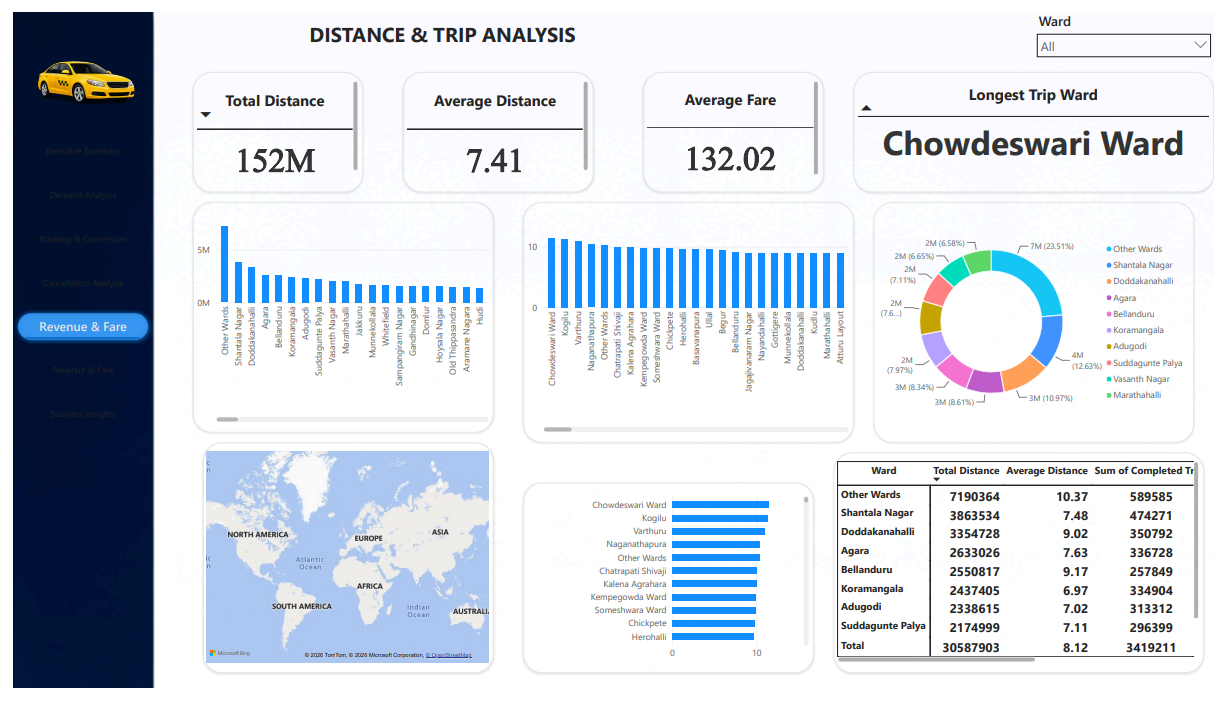

This screenshot's page, from the dashboard's own definition file:
{"tool":"powerbi","page":{"name":"Revenue & Fare ","canvas":[1920,1080],"ordinal":4},"visuals":[{"type":"textbox","box":[224,0,928,96],"z":0},{"type":"tableEx","fields":{"Values":["cleaned_driver_data.Total Distance"]},"box":[288,96,272,192],"z":1000},{"type":"tableEx","fields":{"Values":["cleaned_driver_data.Average Distance"]},"box":[624,96,304,192],"z":2000},{"type":"tableEx","fields":{"Values":["cleaned_driver_data.Longest Trip Ward"]},"box":[1344,96,576,192],"z":3000},{"type":"tableEx","fields":{"Values":["cleaned_driver_data.Average Fare"]},"box":[1008,96,288,192],"z":4000},{"type":"clusteredColumnChart","fields":{"Category":["cleaned_driver_data.Ward"],"Y":["cleaned_driver_data.Total Distance"]},"box":[288,304,480,368],"z":5000},{"type":"columnChart","fields":{"Category":["cleaned_driver_data.Ward"],"Y":["cleaned_driver_data.Average Distance"]},"box":[816,304,528,384],"z":6000},{"type":"donutChart","fields":{"Category":["cleaned_driver_data.Ward"],"Y":["cleaned_driver_data.Total Distance"]},"box":[1376,304,512,384],"z":7000},{"type":"filledMap","fields":{"Category":["cleaned_driver_data.Ward"]},"box":[304,688,464,368],"z":8000},{"type":"clusteredBarChart","fields":{"Category":["cleaned_driver_data.Ward"],"Y":["cleaned_driver_data.Average Distance"]},"box":[816,752,464,304],"z":9000},{"type":"pivotTable","fields":{"Rows":["cleaned_driver_data.Ward"],"Values":["cleaned_driver_data.Total Distance","cleaned_driver_data.Average Distance","Sum(cleaned_driver_data.Completed Trips)","cleaned_driver_data.Average Fare","Sum(cleaned_driver_data.Drivers' Earnings)"]},"box":[1312,704,592,352],"z":10000},{"type":"slicer","fields":{"Values":["cleaned_driver_data.Ward"]},"box":[1632,0,288,96],"z":11000},{"type":"pageNavigator","box":[0,192,224,480],"z":12000},{"type":"image","box":[0,0,288,192],"z":12001}]}

Visuals, with their boxes on the page's 1920x1080 design canvas (x1, y1, x2, y2). These are canvas units, not pixel positions in the 1227x701 screenshot, which may show the page scaled, cropped or inside an application window:
textbox: {"x1": 224, "y1": 0, "x2": 1152, "y2": 96}
tableEx - cleaned_driver_data.Total Distance: {"x1": 288, "y1": 96, "x2": 560, "y2": 288}
tableEx - cleaned_driver_data.Average Distance: {"x1": 624, "y1": 96, "x2": 928, "y2": 288}
tableEx - cleaned_driver_data.Longest Trip Ward: {"x1": 1344, "y1": 96, "x2": 1920, "y2": 288}
tableEx - cleaned_driver_data.Average Fare: {"x1": 1008, "y1": 96, "x2": 1296, "y2": 288}
clusteredColumnChart - cleaned_driver_data.Ward x cleaned_driver_data.Total Distance: {"x1": 288, "y1": 304, "x2": 768, "y2": 672}
columnChart - cleaned_driver_data.Ward x cleaned_driver_data.Average Distance: {"x1": 816, "y1": 304, "x2": 1344, "y2": 688}
donutChart - cleaned_driver_data.Ward x cleaned_driver_data.Total Distance: {"x1": 1376, "y1": 304, "x2": 1888, "y2": 688}
filledMap - cleaned_driver_data.Ward: {"x1": 304, "y1": 688, "x2": 768, "y2": 1056}
clusteredBarChart - cleaned_driver_data.Ward x cleaned_driver_data.Average Distance: {"x1": 816, "y1": 752, "x2": 1280, "y2": 1056}
pivotTable - cleaned_driver_data.Ward x cleaned_driver_data.Total Distance: {"x1": 1312, "y1": 704, "x2": 1904, "y2": 1056}
slicer - cleaned_driver_data.Ward: {"x1": 1632, "y1": 0, "x2": 1920, "y2": 96}
pageNavigator: {"x1": 0, "y1": 192, "x2": 224, "y2": 672}
image: {"x1": 0, "y1": 0, "x2": 288, "y2": 192}
